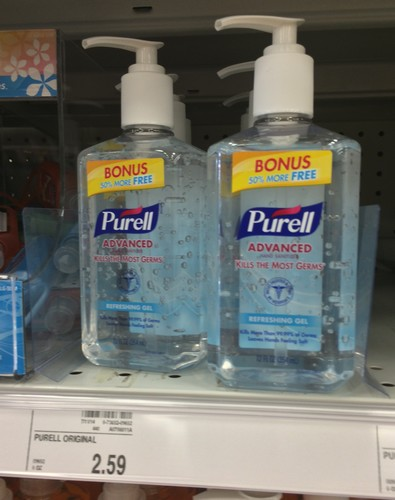Sanitizer: (202, 11, 367, 397), (69, 29, 214, 377)
